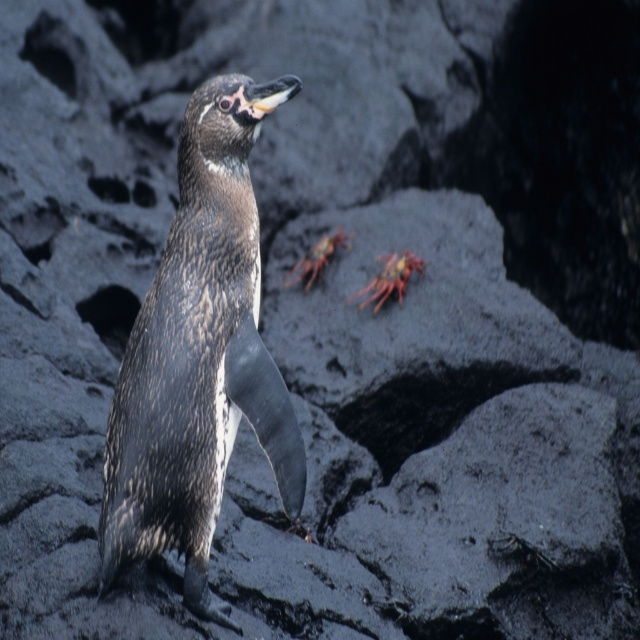Penguin: (98, 69, 303, 632)
